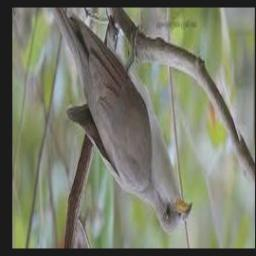Cuckoo: (52, 8, 192, 235)
